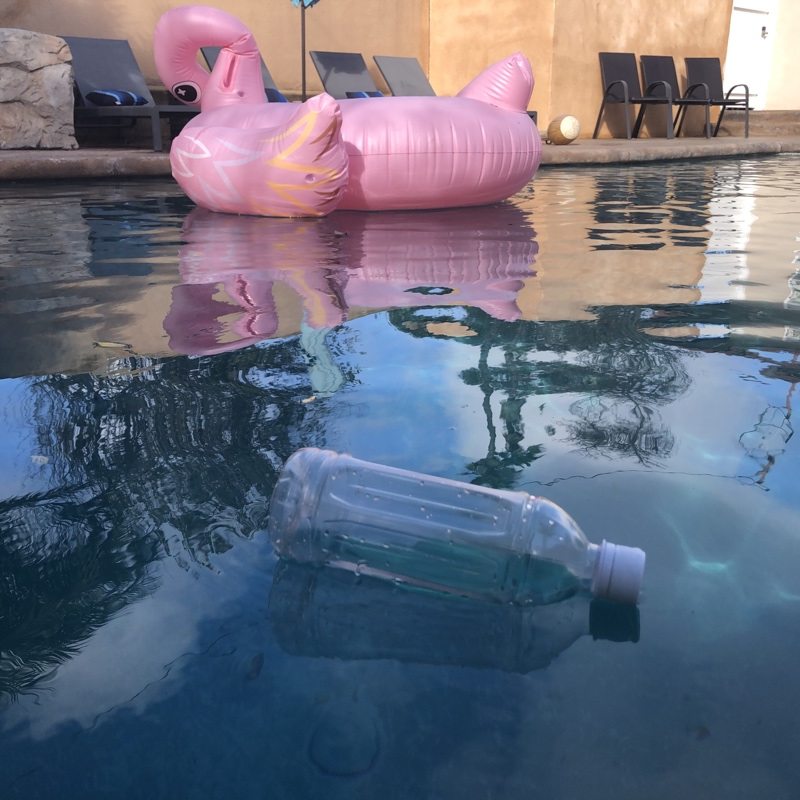Plastic Bottle: (261, 440, 655, 623)
